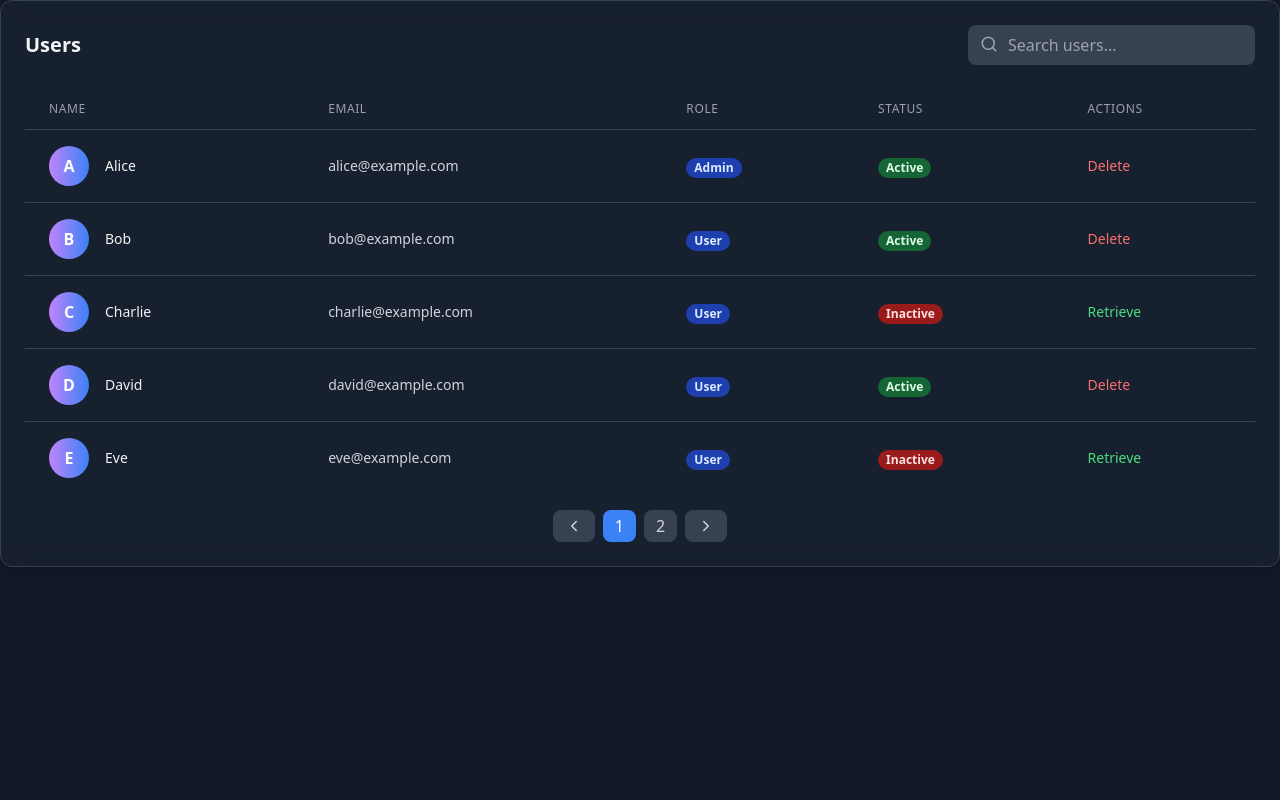
AdminAllUsersTable Component › toggles user status when action button is clicked
The width and height of the screenshot is (1280, 800).
Expected: the text "Alice" is shown, [105,156,136,176]
// Locate Alice's table row and find the "Delete" button within it.
Click the button "Delete" in the row of "alice@example.com" at (1109, 166), box [1088,156,1130,176]
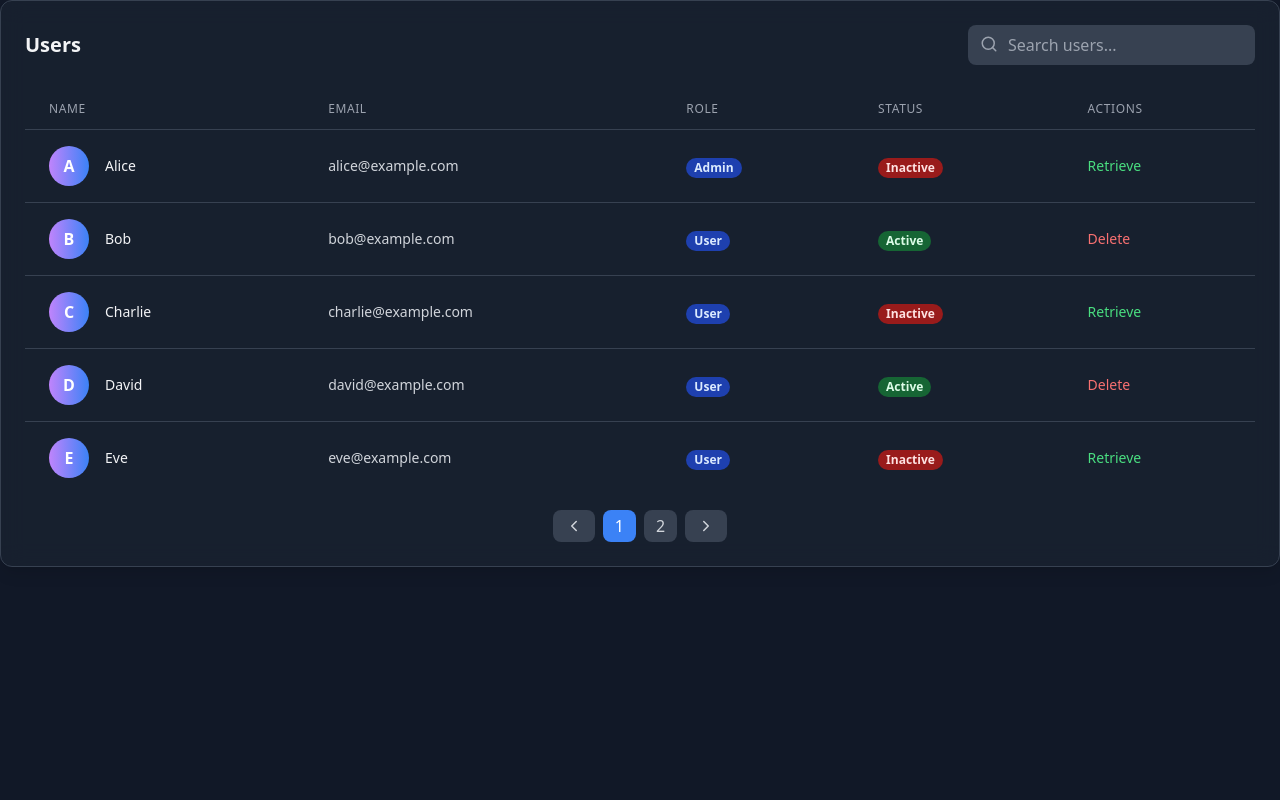
Result: the button "Retrieve" in the row of "alice@example.com" is shown at [1088,156,1141,176]
